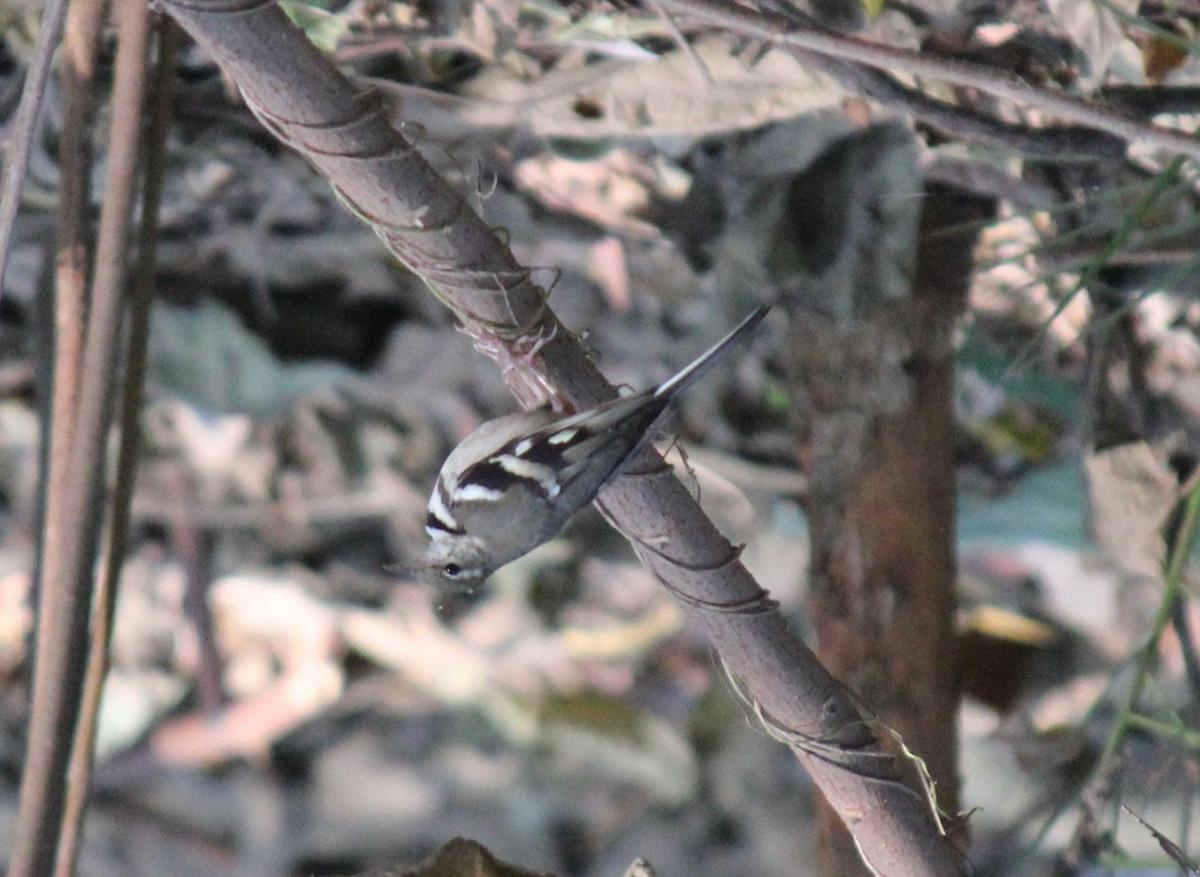wagtail: (375, 284, 795, 596)
